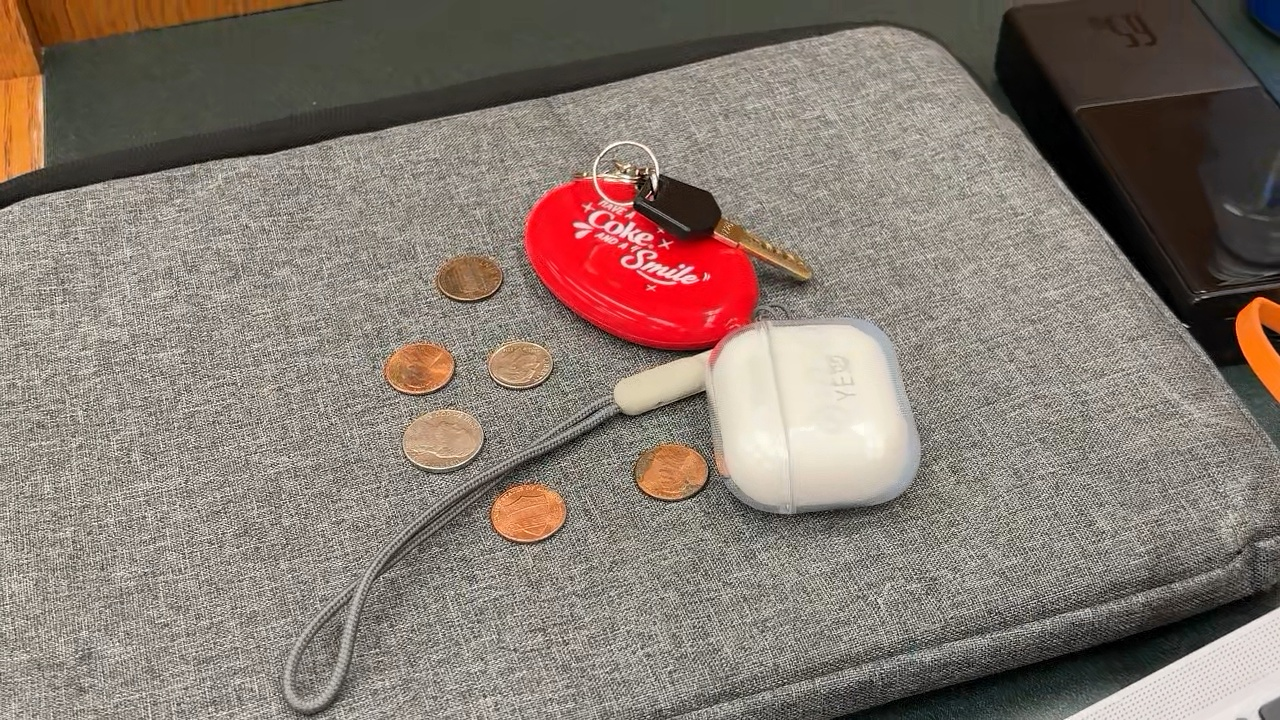dime: (486, 342, 557, 389)
nickel: (400, 406, 486, 472)
penny: (488, 484, 568, 542), (635, 443, 710, 500), (386, 342, 458, 396), (434, 253, 507, 303)
